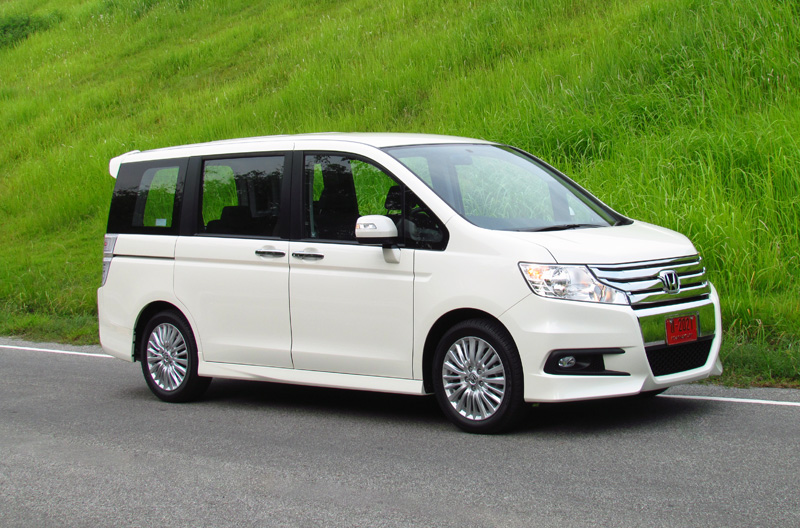van: (91, 126, 726, 433)
